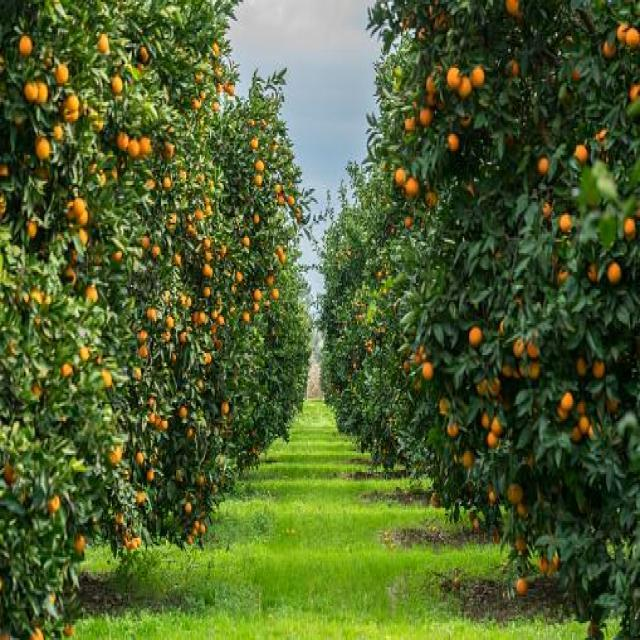Jeruk Sudah Matang: (607, 262, 621, 284), (469, 327, 482, 348), (36, 140, 50, 158), (574, 144, 588, 162), (46, 494, 60, 512), (55, 64, 68, 83), (618, 22, 630, 42), (66, 95, 80, 112), (448, 68, 460, 87), (36, 83, 48, 102), (20, 34, 32, 53), (528, 340, 540, 359), (458, 80, 472, 96), (25, 83, 38, 100), (85, 287, 98, 304), (627, 28, 639, 46), (560, 214, 572, 232), (596, 130, 608, 148), (508, 487, 522, 502), (472, 68, 484, 85), (556, 268, 568, 285), (30, 289, 42, 306), (489, 378, 501, 394), (486, 432, 498, 448), (560, 392, 572, 408), (630, 83, 640, 102), (73, 198, 84, 215), (422, 362, 432, 380), (538, 156, 548, 174), (624, 219, 636, 234), (594, 360, 604, 378), (530, 362, 540, 380), (587, 264, 597, 282), (78, 228, 88, 246), (62, 362, 72, 380), (141, 138, 151, 155), (118, 132, 128, 149), (395, 168, 405, 185), (408, 178, 418, 195), (513, 340, 523, 357), (578, 417, 588, 434), (66, 202, 76, 219), (102, 370, 112, 387), (588, 423, 601, 436), (128, 142, 140, 156), (476, 380, 488, 394), (604, 42, 616, 56), (76, 212, 88, 226), (108, 448, 122, 460), (112, 76, 122, 92), (421, 108, 431, 124), (428, 190, 438, 206), (517, 578, 527, 594), (608, 396, 618, 412), (164, 142, 174, 158), (6, 466, 16, 482), (99, 34, 108, 51), (493, 417, 502, 434), (167, 213, 176, 230), (76, 534, 84, 553), (449, 134, 459, 149), (28, 223, 38, 238), (66, 268, 76, 283), (556, 408, 568, 420), (515, 538, 527, 550), (462, 452, 472, 466), (428, 78, 438, 92), (80, 348, 90, 362), (577, 359, 586, 374), (588, 623, 598, 636), (482, 412, 490, 428), (140, 46, 148, 62), (54, 124, 62, 140), (505, 0, 516, 11), (256, 160, 266, 172), (448, 424, 458, 436), (426, 92, 436, 104), (550, 557, 558, 572), (111, 251, 122, 261), (250, 138, 259, 150), (440, 400, 449, 412), (405, 116, 414, 128), (572, 428, 581, 440), (166, 317, 175, 329), (542, 203, 550, 216), (540, 559, 548, 572), (502, 366, 512, 376), (511, 60, 518, 74), (577, 402, 585, 414), (489, 490, 497, 502), (412, 352, 420, 364), (418, 346, 426, 358), (518, 504, 526, 516), (163, 177, 171, 189), (140, 346, 148, 358), (202, 264, 210, 276), (140, 330, 148, 342), (147, 310, 156, 320), (242, 236, 250, 247), (212, 44, 219, 56), (195, 209, 202, 221), (203, 286, 210, 298), (222, 402, 229, 414), (191, 99, 200, 108), (148, 177, 156, 187), (254, 288, 262, 298), (272, 288, 280, 298), (204, 206, 212, 216), (136, 453, 144, 463), (162, 332, 170, 342), (180, 408, 188, 418), (130, 542, 138, 552), (184, 502, 192, 512), (148, 415, 156, 425), (142, 236, 148, 249), (275, 183, 282, 194), (520, 364, 526, 376), (136, 368, 142, 380), (152, 245, 159, 255), (289, 196, 296, 206), (266, 276, 273, 286), (203, 238, 210, 248), (206, 251, 213, 261), (192, 311, 199, 321), (134, 538, 141, 548), (198, 524, 206, 532), (212, 102, 218, 112), (256, 174, 262, 184), (148, 470, 154, 480), (198, 313, 204, 323), (212, 310, 218, 320), (198, 474, 204, 484), (161, 420, 167, 430), (154, 417, 160, 427), (202, 354, 208, 364), (178, 296, 184, 306), (174, 255, 182, 262), (236, 274, 243, 282), (243, 313, 250, 321), (180, 334, 187, 342), (138, 492, 145, 500), (406, 217, 411, 227), (278, 194, 283, 204), (219, 315, 224, 325), (195, 521, 200, 531), (254, 304, 259, 314), (279, 255, 286, 262), (229, 85, 234, 94), (224, 84, 229, 92), (404, 362, 408, 372), (278, 247, 283, 255), (254, 215, 259, 223), (208, 353, 212, 363), (187, 296, 191, 306), (192, 530, 198, 536), (222, 245, 226, 253), (188, 538, 192, 546), (383, 288, 388, 294)
